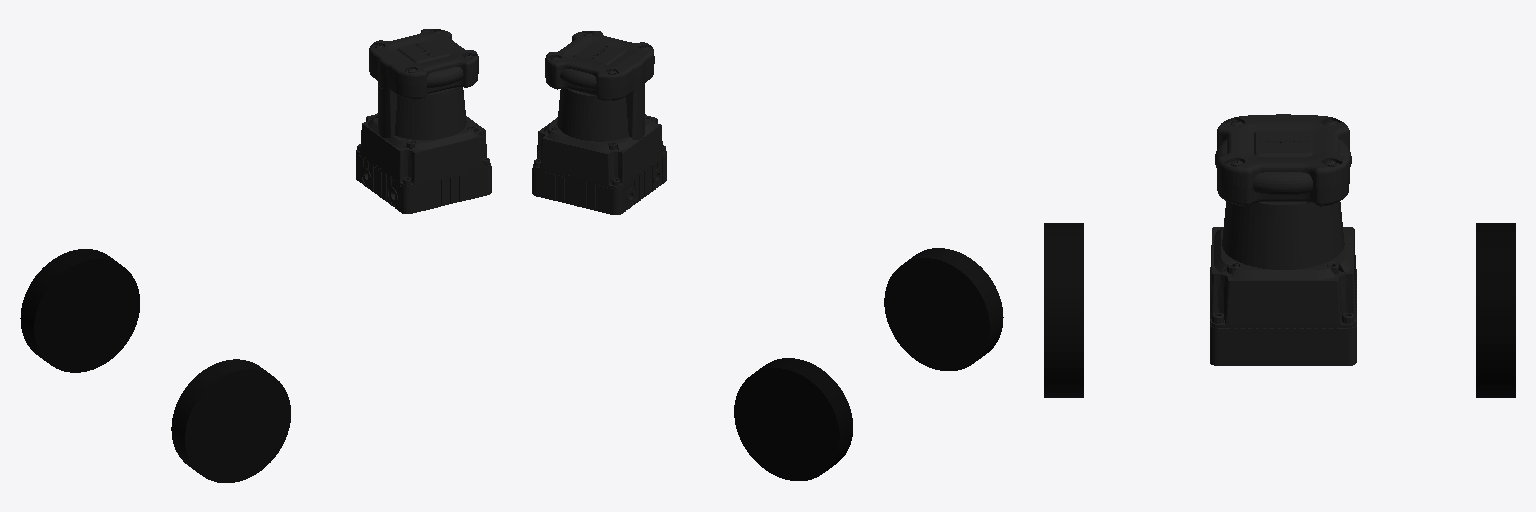
URDF robot description (happy_burger):
<?xml version="1.0"?>
<robot name="happy_burger">

  <link name="base_link">
    <visual>
      <geometry>
	<mesh filename="package://happy_burger_description/meshes/body.dae"/>
      </geometry>
      <origin rpy="0 0 0" xyz="0 0 0"/>
    </visual>
    <collision>
      <origin rpy="0 0 0" xyz="0 0 0"/>
      <geometry>
	<mesh filename="package://happy_burger_description/meshes/body.stl"/>
      </geometry>
    </collision>
  </link>
   
  <link name="left_wheel_link">
    <visual>
      <geometry>
	<mesh filename="package://happy_burger_description/meshes/left_wheel.dae"/>
      </geometry>
      <origin xyz ="0 0 0" rpy="0 0 0"/>
    </visual>
    <collision>
      <origin rpy="0 0 0" xyz="0 0 0"/>
      <geometry>
	<mesh filename="package://happy_burger_description/meshes/left_wheel.stl"/>
      </geometry>
    </collision>
  </link> 
  <joint name="left_wheel_joint" type="continuous">
    <parent link="base_link"/>
    <child link="left_wheel_link"/>
    <origin rpy="0 0 0" xyz="0 0.0947 0.03575"/>
    <axis xyz="0 1 0"/>
  </joint>

  <link name="right_wheel_link">
    <visual>
      <geometry>
	<mesh filename="package://happy_burger_description/meshes/right_wheel.dae"/>
      </geometry>
      <origin xyz ="0 0 0" rpy="0 0 0"/>
    </visual>
    <collision>
      <origin rpy="0 0 0" xyz="0 0 0"/>
      <geometry>
	<mesh filename="package://happy_burger_description/meshes/right_wheel.stl"/>
      </geometry>
    </collision>
  </link>
  <joint name="right_wheel_joint" type="continuous">
    <parent link="base_link"/>
    <child link="right_wheel_link"/>
    <origin rpy="0 0 0" xyz="0 -0.0974 0.03575"/>
    <axis xyz="0 1 0"/>
  </joint>

  <link name="arm_base_link">
    <visual>
      <geometry>
	<mesh filename="package://happy_burger_description/meshes/mikata_arm_4_joint1.dae"/>
      </geometry>
      <origin rpy="0 0 3.14159" xyz="0 0 0.017"/>
    </visual>
    <collision>
      <origin rpy="0 0 3.14159" xyz="0 0 0.017"/>
      <geometry>
	<mesh filename="package://happy_burger_description/meshes/mikata_arm_4_joint1.stl"/>
      </geometry>
    </collision>
  </link>
  <joint name="plate_joint" type="fixed">
    <parent link="base_link"/>
    <child link="arm_base_link"/>
    <origin xyz="-0.004374 -0.076 0.245"/>
  </joint>
  
  <link name="link_2">
    <visual>
      <geometry>
	<mesh filename="package://happy_burger_description/meshes/mikata_arm_4_joint2.dae"/>
      </geometry>
      <origin rpy="1.57075 0 1.57075" xyz="0 0 .0405"/>
    </visual>
    <collision>
      <origin rpy="1.57075 0 1.57075" xyz="0 0 .0405"/>
      <geometry>
	<mesh filename="package://happy_burger_description/meshes/mikata_arm_4_joint2.stl"/>
      </geometry>
    </collision>
  </link>
  <joint name="joint_1" type="revolute">
    <parent link="arm_base_link"/>
    <child link="link_2"/>
    <axis xyz="0 0 1"/>
    <limit lower="-3.141592653589793" upper="3.1400586728019073" effort="1000" velocity="0.7"/>
    <origin rpy="0 0 -1.5708" xyz="0 0 .0355"/>
  </joint>

  <link name="link_3">
    <visual>
      <geometry>
	<mesh filename="package://happy_burger_description/meshes/mikata_arm_4_joint3.dae"/>
      </geometry>
      <origin rpy="0 0 -1.57075" xyz=".024 0 .148"/>
    </visual>
    <collision>
      <origin rpy="0 0 -1.57075" xyz=".024 0 .148"/>
      <geometry>
	<mesh filename="package://happy_burger_description/meshes/mikata_arm_4_joint3.stl"/>
      </geometry>
    </collision>    
  </link>
  <joint name="joint_2" type="revolute">
    <parent link="link_2"/>
    <child link="link_3"/>
    <axis xyz="0 1 0"/>
    <limit lower="-1.8070293681292853" upper="2.073942025221387" effort="1000" velocity="0.7"/>
    <origin xyz="0 0 .0405"/>
  </joint>
  
  <link name="link_4">
    <visual>
      <geometry>
	<mesh filename="package://happy_burger_description/meshes/mikata_arm_4_joint4.dae"/>
      </geometry>
      <origin rpy="0 3.14159 -1.57075" xyz=".150 0 0"/>
    </visual>
    <collision>
      <origin rpy="0 3.14159 -1.57075" xyz=".150 0 0"/>
      <geometry>
	<mesh filename="package://happy_burger_description/meshes/mikata_arm_4_joint4.stl"/>
      </geometry>
    </collision>
  </link>
  <joint name="joint_3" type="revolute">
    <parent link="link_3"/>
    <child link="link_4"/>
    <axis xyz="0 1 0"/>
    <limit lower="-1.7456701366138596" upper="1.4143302864305611" effort="1000" velocity="0.7"/>
    <origin xyz=".024 0 .148"/>
  </joint>

  <link name="link_5">
    <visual>
      <geometry>
	<mesh filename="package://happy_burger_description/meshes/mikata_arm_4_joint5.dae"/>
      </geometry>
      <origin rpy="0 1.57075 0" xyz=".04225 .015 0"/>
    </visual>
    <collision>
      <origin rpy="0 1.57075 0" xyz=".04225 .015 0"/>
      <geometry>
	<mesh filename="package://happy_burger_description/meshes/mikata_arm_4_joint5.stl"/>
      </geometry>
    </collision>    
  </link>
  <joint name="joint_4" type="revolute">
    <parent link="link_4"/>
    <child link="link_5"/>
    <axis xyz="0 1 0"/>
    <limit lower="-1.7303303287350031" upper="1.88986433067511" effort="1000" velocity="0.7"/>
    <origin xyz="0.150 0 0"/>
  </joint>

  <link name="left_gripper">
    <visual>
      <geometry>
	<mesh filename="package://happy_burger_description/meshes/mikata_arm_4_gripper.dae"/>
      </geometry>
      <origin rpy="3.14159 0 -.9773835"/>
    </visual>
    <collision>
      <origin rpy="3.14159 0 -.9773835"/>
      <geometry>
	<mesh filename="package://happy_burger_description/meshes/mikata_arm_4_gripper.stl"/>
      </geometry>
    </collision>    
  </link>
  <joint name="gripper_joint_5" type="revolute">
    <parent link="link_5"/>
    <child link="left_gripper"/>
    <axis xyz="0 0 1"/>
    <limit lower="0" upper="1.452906" effort="1000" velocity="0.7"/>
    <origin xyz=".04225 .015 0"/>
  </joint>

  <link name="right_gripper">
    <visual>
      <geometry>
	<mesh filename="package://happy_burger_description/meshes/mikata_arm_4_gripper.dae"/>
      </geometry>
      <origin rpy="0 0 .9773835"/>
    </visual>
    <collision>
      <origin rpy="0 0 .9773835"/>
      <geometry>
	<mesh filename="package://happy_burger_description/meshes/mikata_arm_4_gripper.stl"/>
      </geometry>
    </collision>    
  </link>
  <joint name="right_gripper_joint" type="revolute">
    <parent link="link_5"/>
    <child link="right_gripper"/>
    <axis xyz="0 0 1"/>
    <limit lower="0" upper="1.452906" effort="1000" velocity="0.7"/>
    <origin xyz=".04225 -.015 0"/>
    <mimic joint="gripper_joint_5" multiplier="-1"/>
  </joint>

  <link name="lidar_link">
    <visual>
      <geometry>
        <mesh filename="package://happy_burger_description/meshes/lidar.dae"/>
      </geometry>
      <origin xyz="0 0 0" rpy="0 0 0"/>
    </visual>
    <collision>
      <origin xyz="0 0 0" rpy="0 0 0"/>
      <geometry>
        <mesh filename="package://happy_burger_description/meshes/lidar.stl"/>
      </geometry>
    </collision>
  </link>
  <joint name="lidar_joint" type="fixed">
    <axis xyz="0 1 0"/>
    <origin xyz="0.181272 0 0.109" rpy="0 0 0"/>
    <parent link="base_link"/>
    <child link="lidar_link"/>
    </joint>
    
</robot>

--- Facts derived from the render (not from the file) ---
Views: 3 orthographic renders of the robot side by side, from view 1: azimuth 30°, elevation 25°; view 2: azimuth 150°, elevation 25°; view 3: azimuth 270°, elevation 25°.
Robot: happy_burger — 11 links, 10 joints (6 revolute, 2 continuous, 2 fixed); root link base_link; default pose: every joint at zero.
Links seen in each view (by area): view 1: lidar_link, left_wheel_link, right_wheel_link; view 2: lidar_link, right_wheel_link, left_wheel_link; view 3: lidar_link, left_wheel_link, right_wheel_link.
Link boxes in pixels (box(x1,y1,x2,y2)): lidar_link: box(356, 29, 491, 213); left_wheel_link: box(20, 249, 139, 372); right_wheel_link: box(171, 359, 290, 482); lidar_link: box(532, 31, 666, 214); right_wheel_link: box(884, 248, 1003, 370); left_wheel_link: box(734, 358, 852, 480); lidar_link: box(1210, 114, 1356, 365); left_wheel_link: box(1476, 223, 1515, 397); right_wheel_link: box(1044, 223, 1083, 397).
Size in the robot's own frame: 0.247 by 0.1921 by 0.1964 metres.
3 mesh visuals loaded from 10 distinct referenced files (3 Collada DAE); not drawn: 8 (reference not matched to a file when rendering).